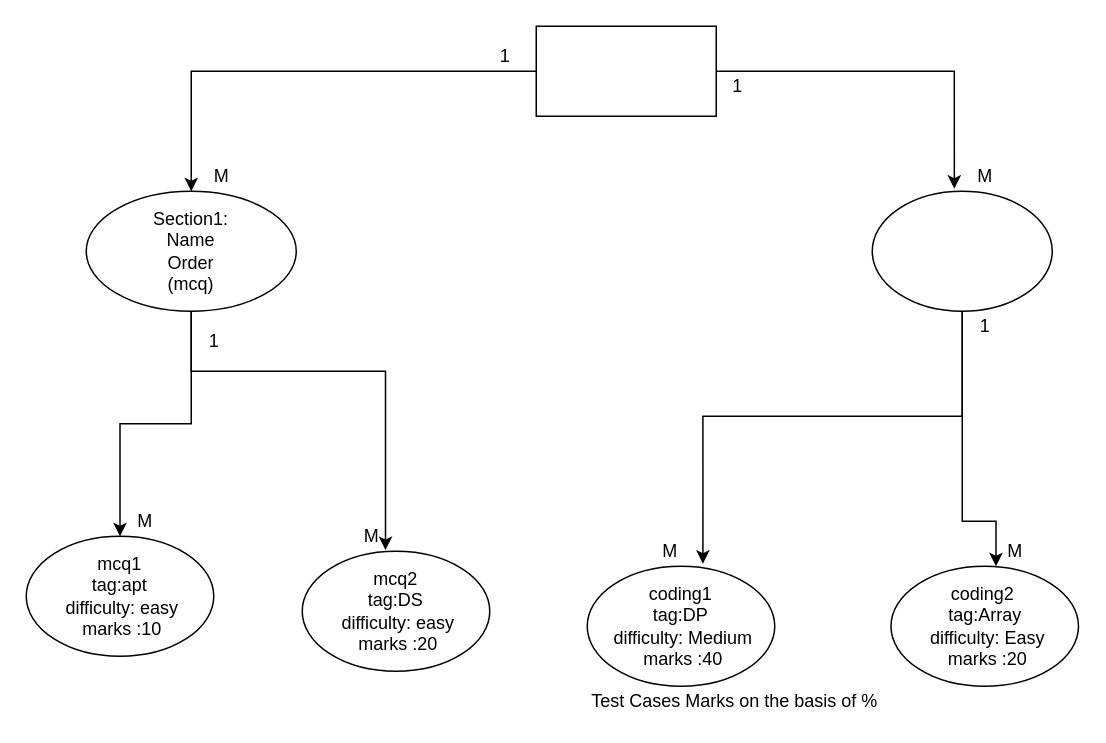
The diagram is 1106 pixels wide and 743 high, and some of its shapes have lost their labels. Here are the shapes that lost their labels. From the top down, the centre of each, then its label:
At (625,70): "Test Template Name created_by created_at".
At (961,250): "section2 Name Order (Coding)".
